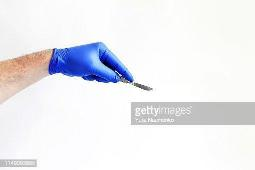scalpel: (118, 75, 154, 91)
